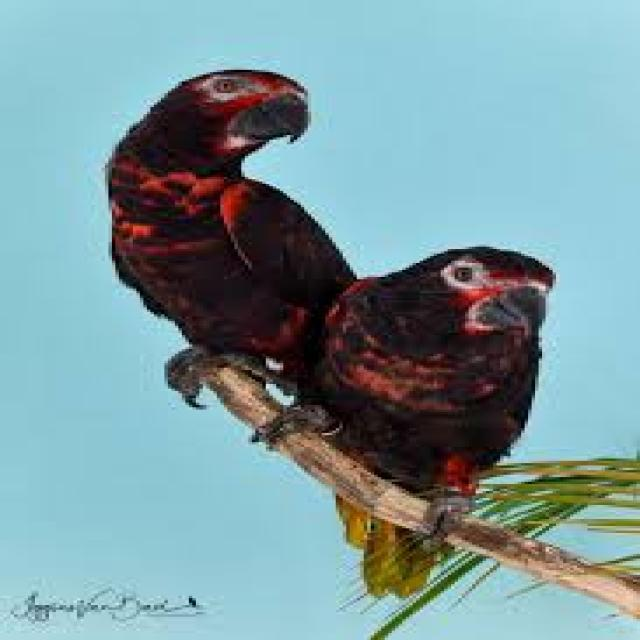Nuri Hitam: (86, 55, 368, 432), (287, 220, 562, 596)
